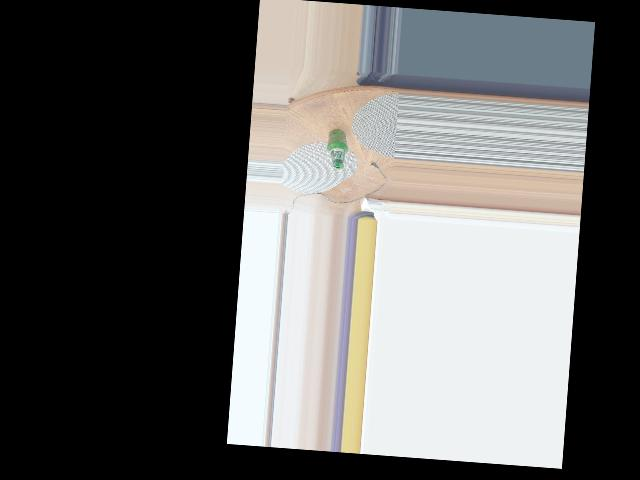beer: (325, 128, 348, 170)
